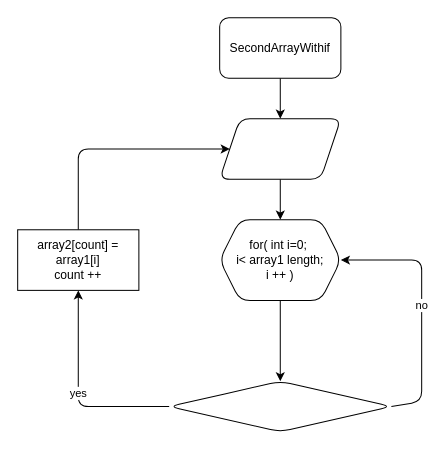
The diagram is 447 pixels wide and 449 high, and some of its shapes have lost their labels. Each missing label, with the centre of its shape:
if(array1[i].lenght <= 3: (279,406)
sting[]array 1 sting[]array 2 int count = 0: (280,148)
